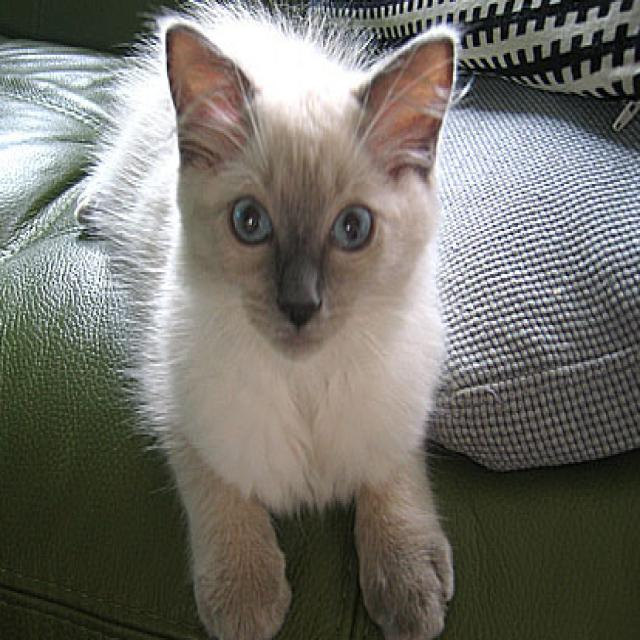Ragdoll: (88, 0, 469, 640)
